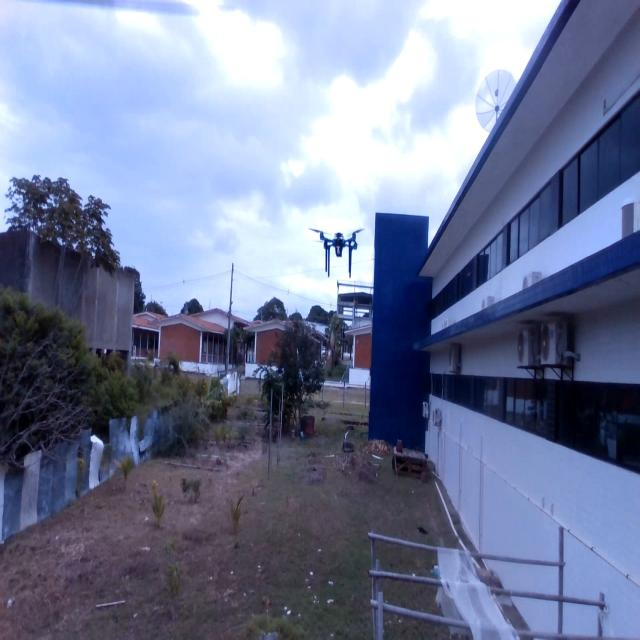-uav-: (306, 222, 372, 282)
